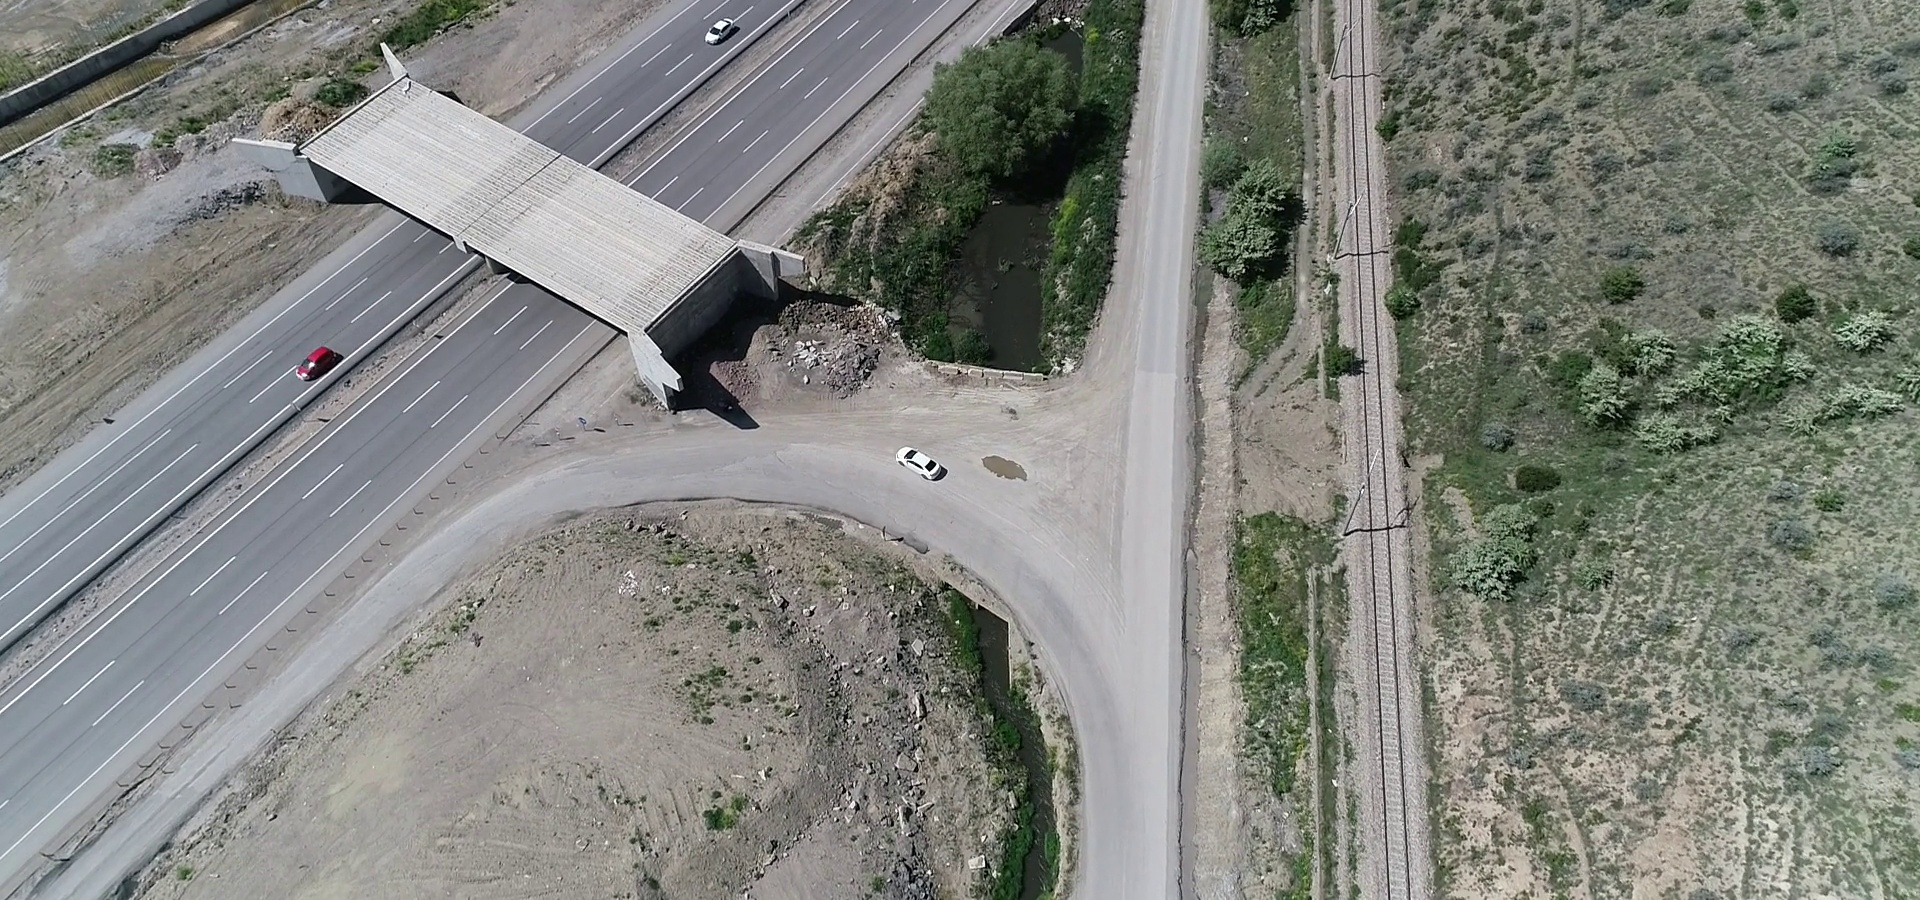araba: (291, 329, 351, 381), (894, 440, 950, 490), (698, 12, 741, 49)
